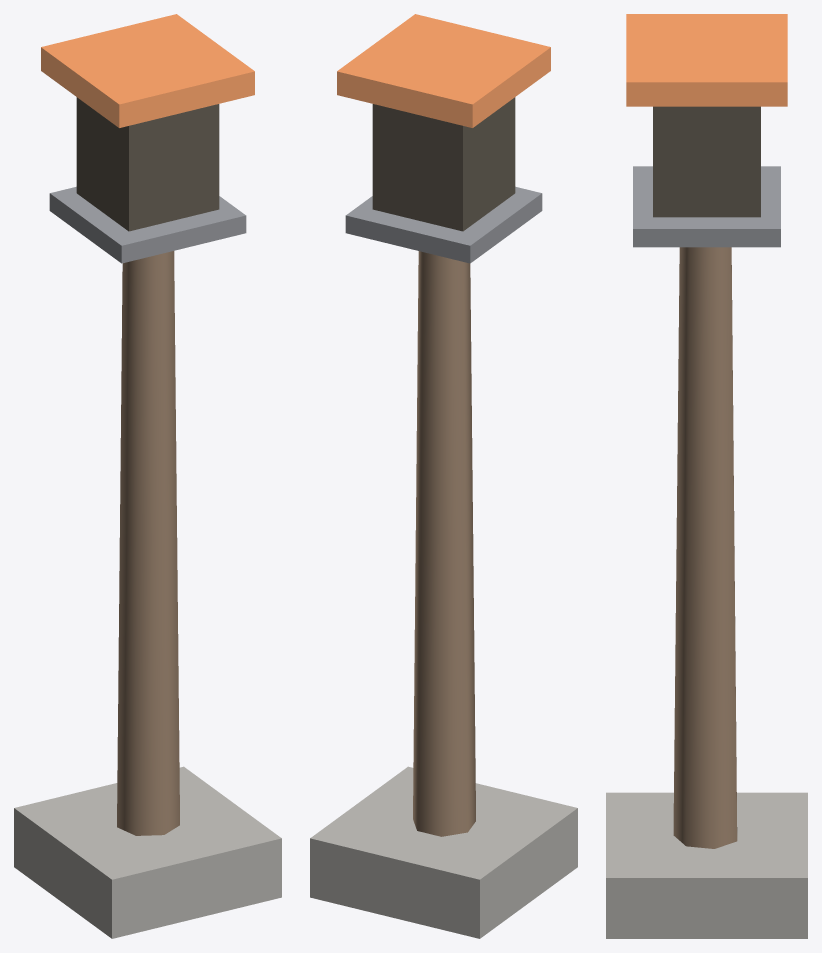
Rendered from build_lamp.glb.
The picture shows the model from 3 angles, left to right: view 1: azimuth 30°, elevation 25°; view 2: azimuth 150°, elevation 25°; view 3: azimuth 270°, elevation 25°; orthographic projection. The views are drawn at different scales.
Parts seen in each view (by area): view 1: Baked, Bulb; view 2: Baked, Bulb; view 3: Baked, Bulb.
Boxes of the visible parts, box(x1,y1,x2,y2) form: Baked: box(14, 14, 281, 938); Bulb: box(76, 97, 219, 231); Baked: box(310, 14, 577, 938); Bulb: box(372, 97, 515, 231); Baked: box(606, 14, 807, 938); Bulb: box(653, 106, 760, 217).
Bounding box in the file's own units: 0.3 × 1.39 × 0.3.
